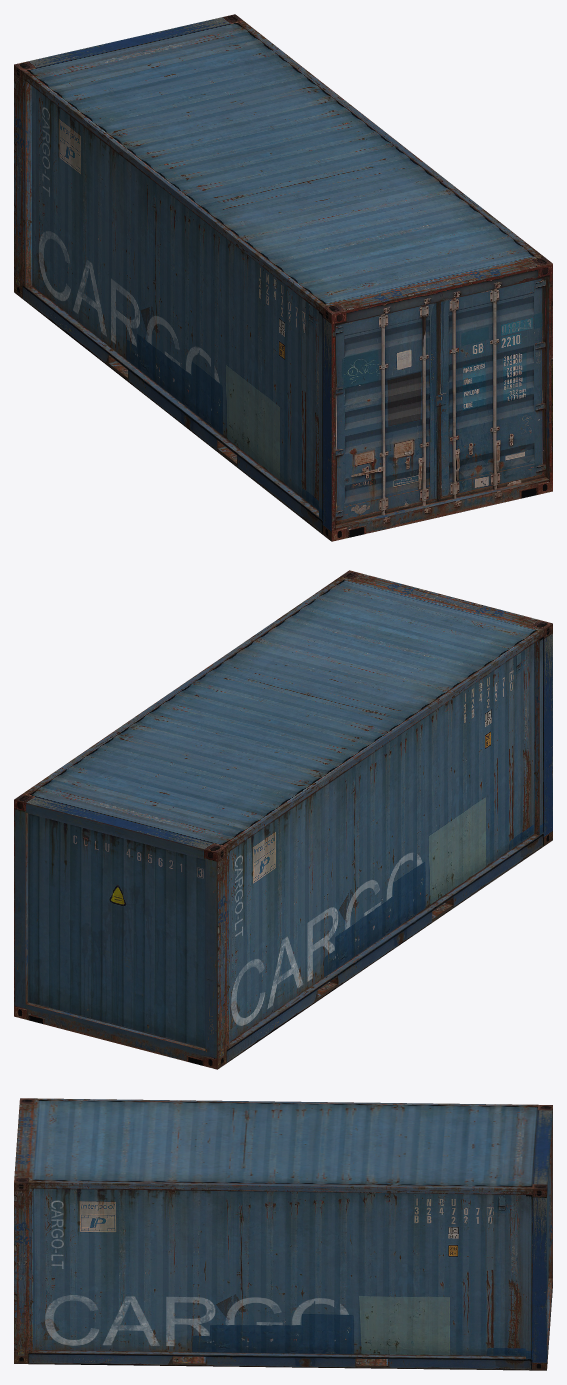
The model's file is Cargo_container_v1_LD2close (9).glb.
3 renders of one model, top to bottom at view 1: azimuth 30°, elevation 25°; view 2: azimuth 150°, elevation 25°; view 3: azimuth 270°, elevation 25°, orthographic. The views are drawn at different scales.
Visible parts, largest first — view 1: Cargo_container_v1_LD2close (9); view 2: Cargo_container_v1_LD2close (9); view 3: Cargo_container_v1_LD2close (9).
Boxes of the visible parts, left/top/right/bottom form: Cargo_container_v1_LD2close (9): left=14, top=14, right=552, bottom=541; Cargo_container_v1_LD2close (9): left=14, top=570, right=552, bottom=1069; Cargo_container_v1_LD2close (9): left=14, top=1098, right=552, bottom=1370.
Bounding box in the file's own units: 3.24 × 3 × 8.09.
Materials: 1 (1 with a texture image).
